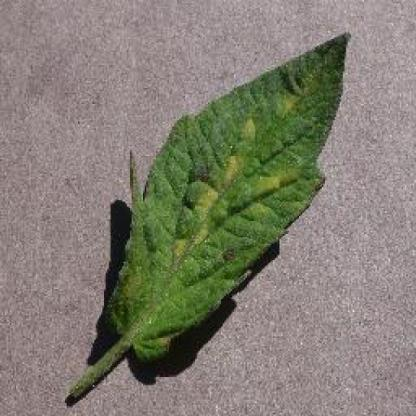Tomato_Leaf_Mold: (111, 34, 352, 358)
